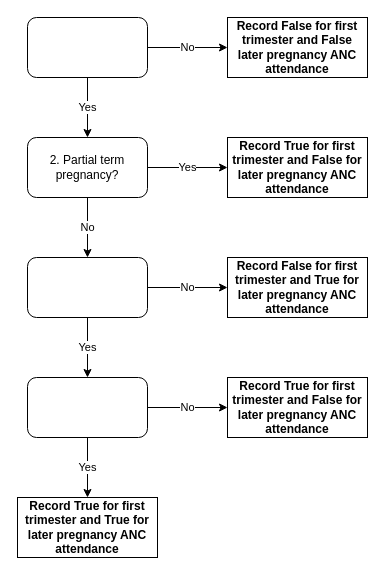
This 385x575 diagram has some shape labels left out. The centre of each missing label's shape, as x and y in pixels:
1. Attends ANC?: point (87, 47)
3 . Attends ANC in first trimester?: point (87, 287)
4. Attends more than one total ANC visit?: point (87, 407)
